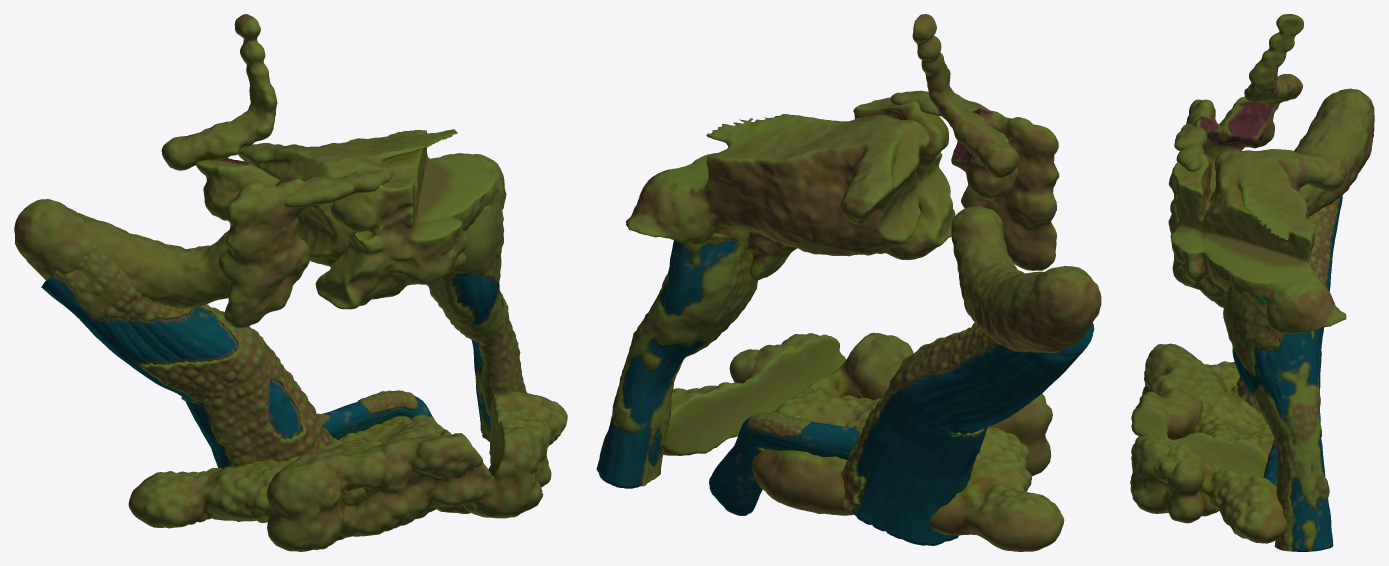
File: grove.glb
The picture shows the model from 3 angles, left to right: view 1: azimuth 30°, elevation 25°; view 2: azimuth 150°, elevation 25°; view 3: azimuth 270°, elevation 25°; orthographic projection. The views are drawn at different scales.
Visible parts, largest first — view 1: moss_crown_mass, moss_left_column, moss_arch_near__fg, moss_arch_left, moss_arch_ground, wood_arch_left, moss_arch_right, moss_hero_upper, moss_hero_near__fg, wood_arch_right, wood_arch_low, moss_arch_low; view 2: moss_crown_mass, moss_arch_ground, moss_left_column, wood_arch_left, moss_arch_right, moss_arch_near__fg, wood_arch_right, wood_arch_low, moss_hero_upper, moss_arch_left, moss_arch_low, moss_hero_near__fg; view 3: moss_crown_mass, moss_arch_near__fg, moss_arch_ground, moss_arch_right, moss_left_column, wood_arch_right, moss_hero_upper, moss_arch_left, moss_hero_near__fg, wood_arch_left, wood_arch_low.
Boxes of the visible parts, left/top/right/bottom form: moss_crown_mass: left=238, top=129, right=506, bottom=309; moss_left_column: left=14, top=158, right=309, bottom=328; moss_arch_near__fg: left=267, top=419, right=551, bottom=551; moss_arch_left: left=54, top=244, right=333, bottom=466; moss_arch_ground: left=128, top=391, right=567, bottom=528; wood_arch_left: left=41, top=274, right=301, bottom=468; moss_arch_right: left=428, top=188, right=526, bottom=441; moss_hero_upper: left=161, top=14, right=277, bottom=170; moss_hero_near__fg: left=283, top=169, right=391, bottom=207; wood_arch_right: left=453, top=259, right=503, bottom=432; wood_arch_low: left=322, top=396, right=433, bottom=440; moss_arch_low: left=317, top=390, right=418, bottom=424; moss_crown_mass: left=625, top=97, right=955, bottom=280; moss_arch_ground: left=663, top=344, right=1064, bottom=551; moss_left_column: left=951, top=108, right=1101, bottom=352; wood_arch_left: left=851, top=323, right=1094, bottom=545; moss_arch_right: left=599, top=226, right=757, bottom=486; moss_arch_near__fg: left=729, top=332, right=1052, bottom=476; wood_arch_right: left=596, top=239, right=737, bottom=488; wood_arch_low: left=709, top=417, right=858, bottom=515; moss_hero_upper: left=912, top=14, right=1018, bottom=178; moss_arch_left: left=841, top=322, right=996, bottom=512; moss_arch_low: left=747, top=412, right=862, bottom=452; moss_hero_near__fg: left=890, top=90, right=990, bottom=116; moss_crown_mass: left=1168, top=149, right=1346, bottom=333; moss_arch_near__fg: left=1130, top=343, right=1227, bottom=523; moss_arch_ground: left=1153, top=361, right=1287, bottom=543; moss_arch_right: left=1223, top=285, right=1329, bottom=551; moss_left_column: left=1186, top=88, right=1374, bottom=216; wood_arch_right: left=1232, top=294, right=1333, bottom=551; moss_hero_upper: left=1244, top=14, right=1303, bottom=104; moss_arch_left: left=1237, top=129, right=1339, bottom=413; moss_hero_near__fg: left=1174, top=122, right=1207, bottom=171; wood_arch_left: left=1313, top=195, right=1342, bottom=422; wood_arch_low: left=1263, top=444, right=1277, bottom=485.
Bounding box in the file's own units: 6.95 × 6.92 × 3.45.
